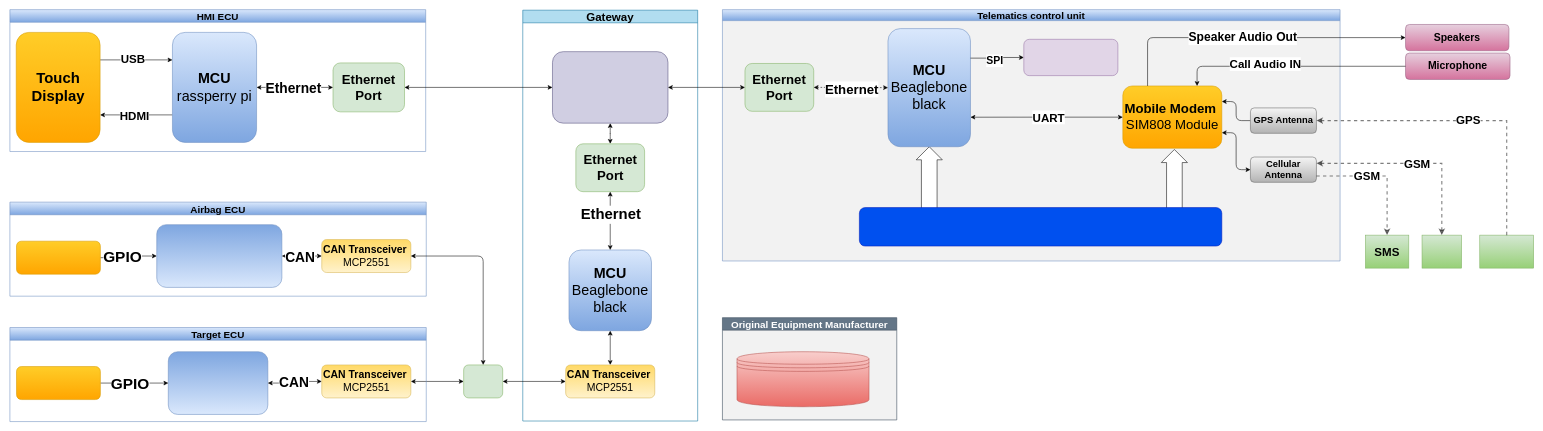
The diagram is 1543 pixels wide and 431 high, and some of its shapes have lost their labels. Each missing label, with the centre of its shape:
Accelerometer + Gyro MPU 9250: (x=1070, y=57)
Backup Battery: (x=1040, y=226)
Bus Splitter: (x=483, y=381)
Button: (x=58, y=257)
Firmware Files FTB Server Filiezilla: (x=802, y=379)
LED Array: (x=58, y=383)
MCU stm32f103 (bluebill): (x=218, y=382)
MCU TM4c123gh6pm (TivaC): (x=219, y=255)
PoE Switch: (x=610, y=87)
Vehicle Location: (x=1506, y=251)
Voice: (x=1441, y=251)
